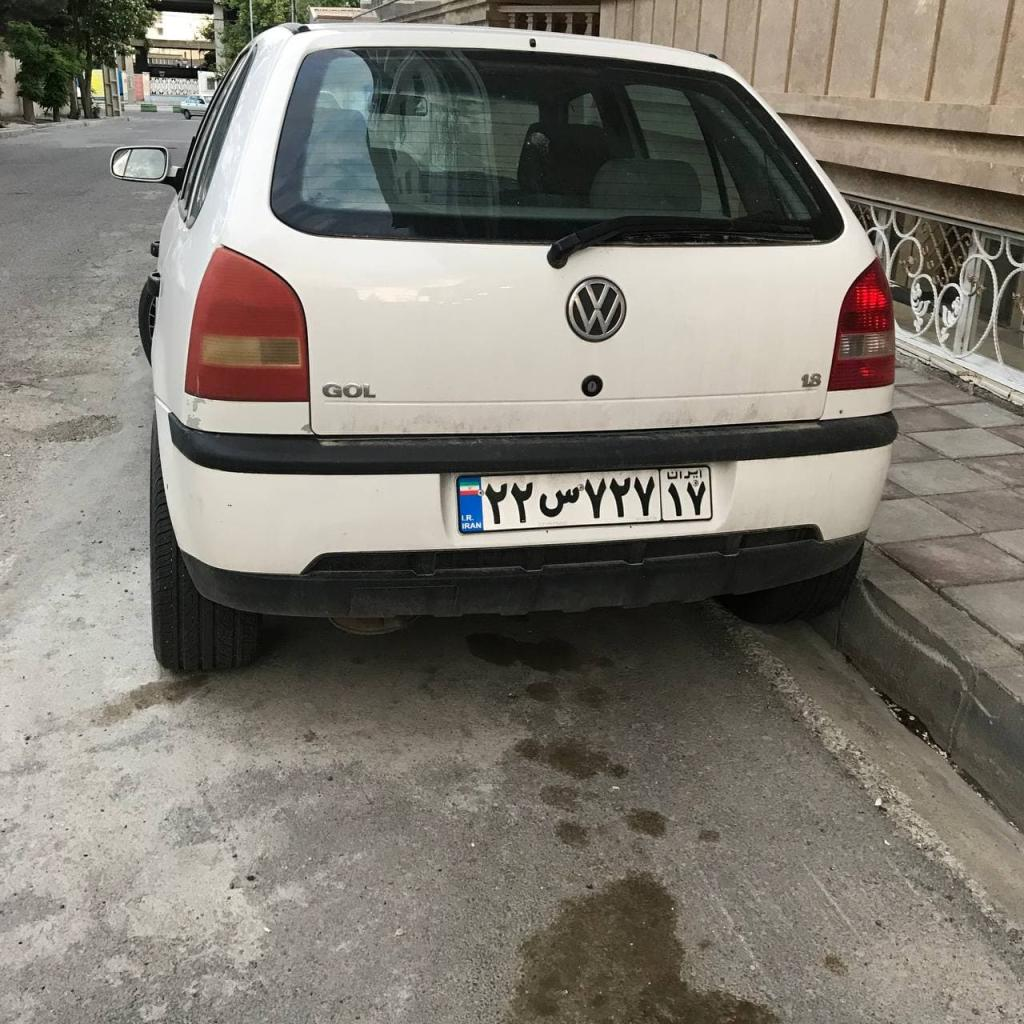Plates: (456, 467, 712, 534)
